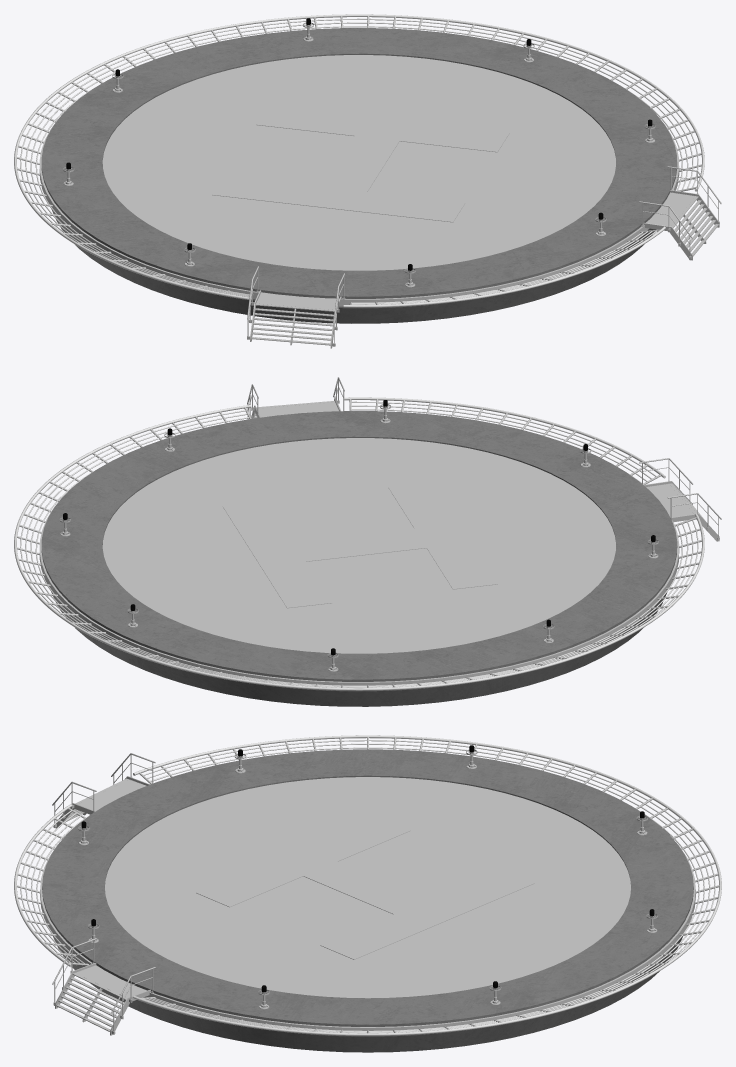
File: KB3D_NSF_PropHeliPad_A.fbx
3 renders of one model, top to bottom at view 1: azimuth 30°, elevation 25°; view 2: azimuth 150°, elevation 25°; view 3: azimuth 270°, elevation 25°, orthographic. The views are drawn at different scales.
Parts seen in each view (by area): view 1: KB3D_NSF_PropHeliPad_A_Main; view 2: KB3D_NSF_PropHeliPad_A_Main; view 3: KB3D_NSF_PropHeliPad_A_Main.
Boxes of the visible parts, x1,y1,x2,y2 form: KB3D_NSF_PropHeliPad_A_Main: (14,14,721,348); KB3D_NSF_PropHeliPad_A_Main: (14,377,721,706); KB3D_NSF_PropHeliPad_A_Main: (14,735,721,1052).
Size of the model in its own units: 2657 by 223 by 2657.
